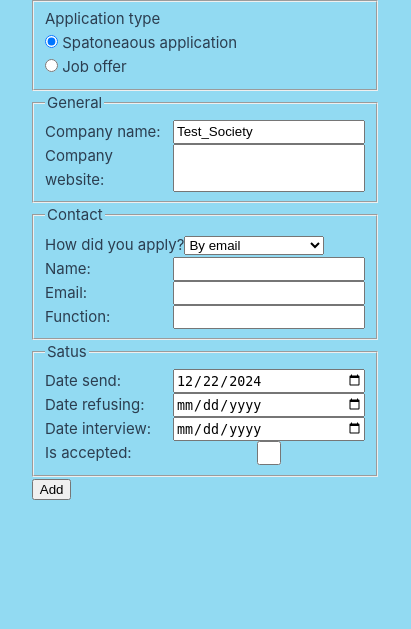
Test: JobApplicationForm test › when a 'jobApplication' is gived then use it to complete form
Click the radio button labelled "Job offer" at [52, 66], box [45,59,58,72]
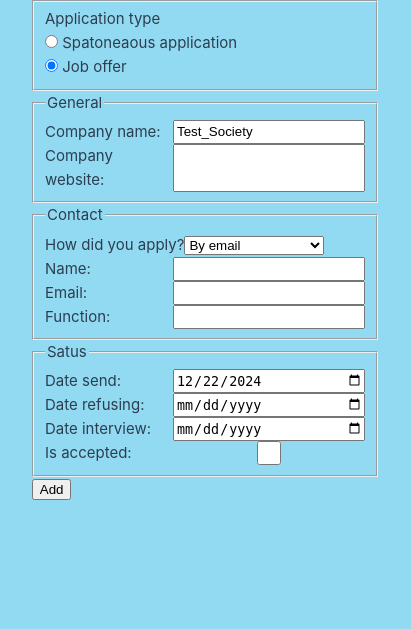
Click the radio button labelled "Job offer" at [52, 66], box [45,59,58,72]
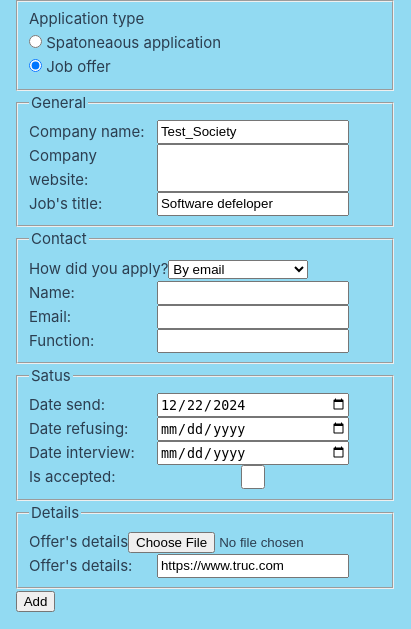
Check: the field named "societyName" holds "Test_Society", box [157,120,349,144]
Check: the radio button labelled "Job offer" is checked, box [29,59,42,72]
Check: the field named "jobTitle" holds "Software defeloper", box [157,192,349,216]
